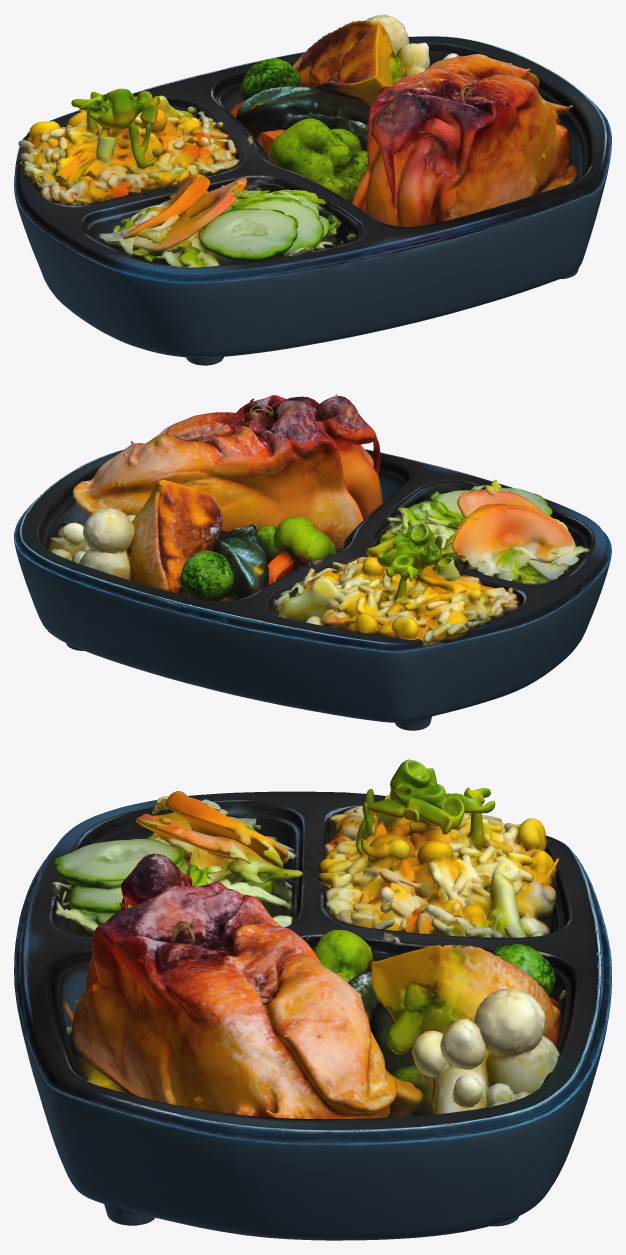
The model's file is meal tray 3d model.glb.
3 renders of one model, top to bottom at view 1: azimuth 30°, elevation 25°; view 2: azimuth 150°, elevation 25°; view 3: azimuth 270°, elevation 25°, orthographic. The views are drawn at different scales.
Visible parts, largest first — view 1: tripo_node_0c205e8a-4c9c-4233-bca3-be14b852ac0b; view 2: tripo_node_0c205e8a-4c9c-4233-bca3-be14b852ac0b; view 3: tripo_node_0c205e8a-4c9c-4233-bca3-be14b852ac0b.
Boxes of the visible parts, <box> form: tripo_node_0c205e8a-4c9c-4233-bca3-be14b852ac0b: <box>14,14,611,365</box>; tripo_node_0c205e8a-4c9c-4233-bca3-be14b852ac0b: <box>14,394,611,730</box>; tripo_node_0c205e8a-4c9c-4233-bca3-be14b852ac0b: <box>14,759,611,1240</box>.
Size of the model in its own units: 0.98 by 0.3578 by 0.7116.
1 material, 1 textured.
